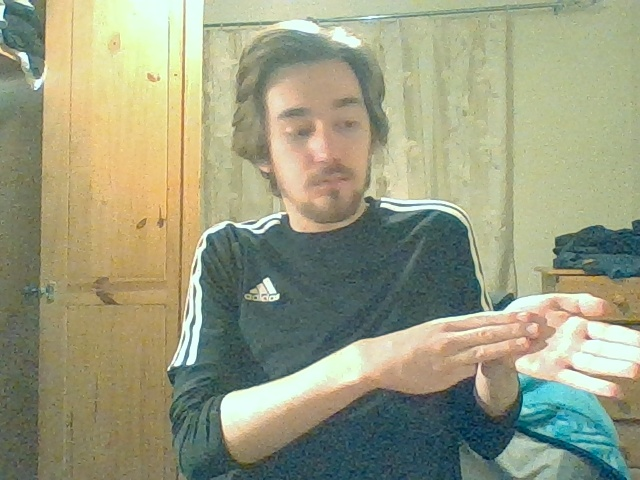mother: (486, 292, 640, 398)
